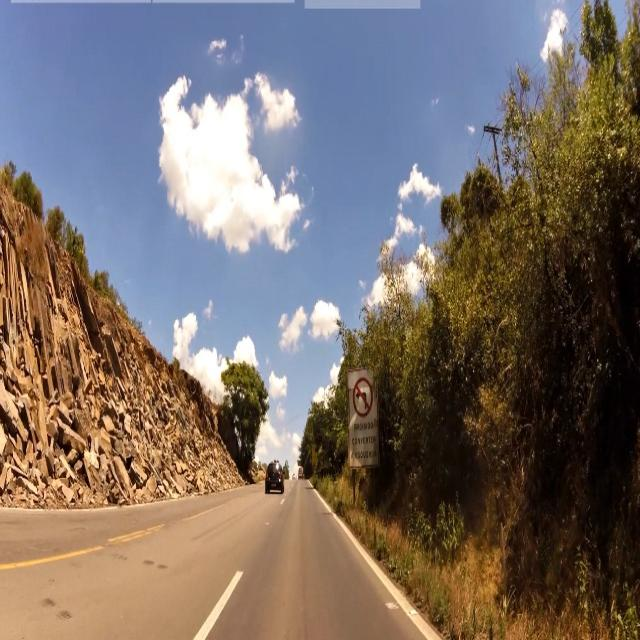R-4a: (352, 374, 373, 420)
